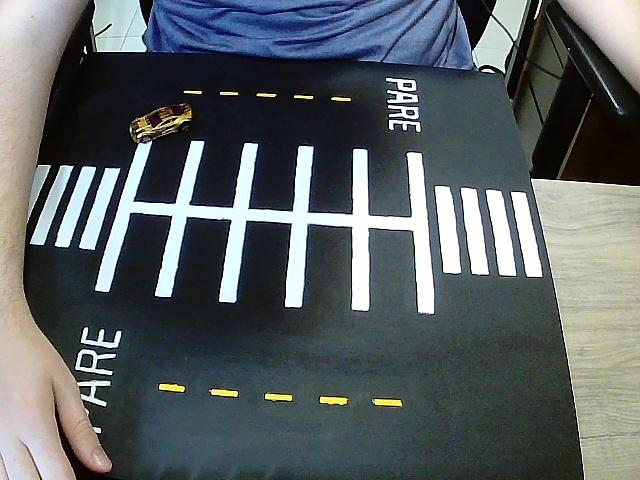Carro: (127, 103, 196, 146)
